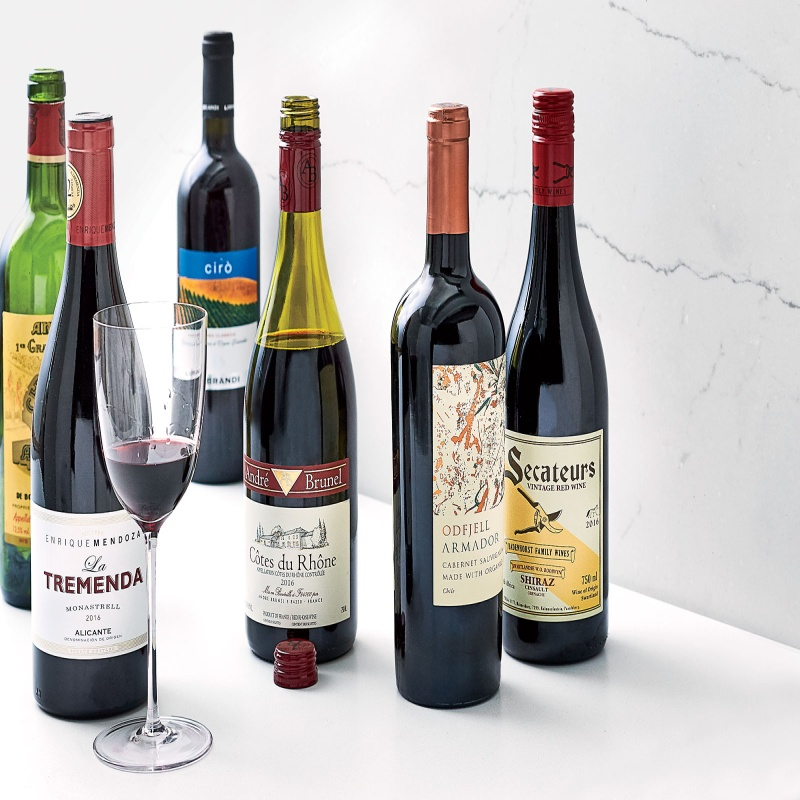wine: (26, 110, 162, 721), (392, 104, 516, 713), (495, 88, 623, 670), (239, 97, 348, 671)
